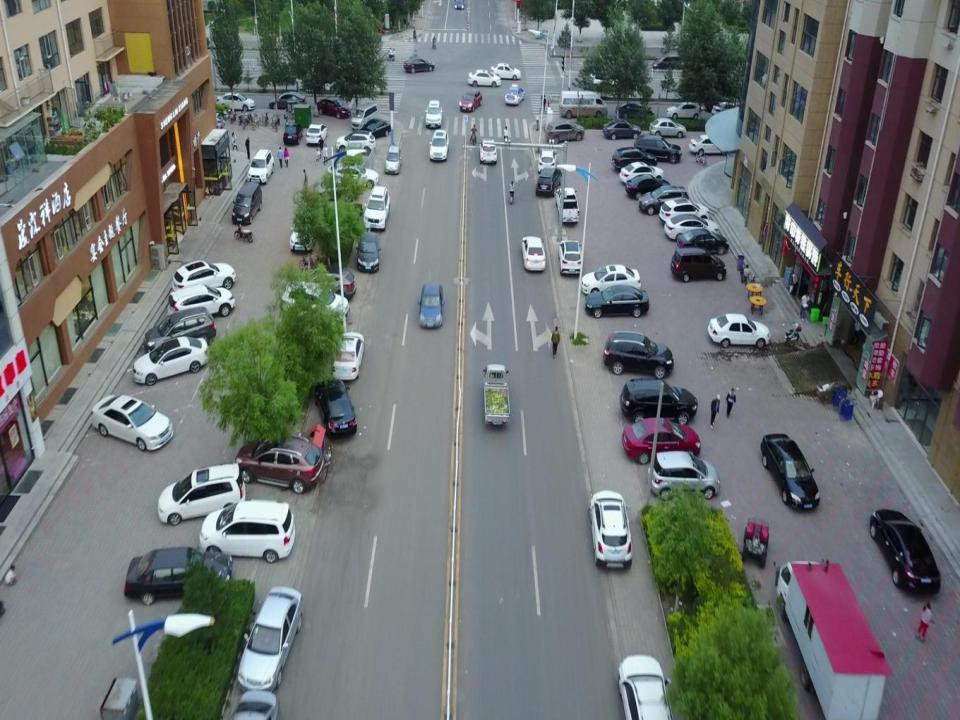car: (236, 584, 304, 696), (124, 545, 234, 606), (869, 507, 942, 598), (198, 498, 294, 564), (156, 462, 246, 527), (234, 435, 325, 494), (91, 393, 174, 452), (760, 432, 821, 511), (132, 335, 212, 386), (620, 416, 701, 466), (617, 651, 675, 720), (649, 449, 721, 502), (142, 307, 216, 358), (602, 330, 676, 380), (589, 488, 634, 570), (619, 376, 699, 422), (280, 280, 350, 332), (166, 283, 236, 325), (314, 376, 358, 439), (171, 260, 237, 299), (706, 312, 771, 349), (585, 283, 650, 319), (670, 246, 727, 282), (301, 264, 357, 300), (581, 264, 641, 296), (327, 331, 365, 381), (664, 213, 720, 242), (638, 185, 690, 216), (633, 133, 683, 164), (676, 227, 729, 255), (326, 162, 379, 190), (659, 198, 710, 226), (418, 280, 445, 330), (625, 173, 671, 201), (363, 186, 391, 232), (289, 208, 317, 254), (307, 177, 358, 202), (611, 146, 658, 171), (355, 231, 382, 274), (619, 161, 665, 185), (336, 130, 376, 156), (688, 133, 733, 156), (544, 119, 585, 144), (246, 149, 274, 185), (554, 186, 580, 223), (354, 117, 392, 142), (558, 240, 584, 276), (521, 234, 546, 271), (602, 118, 642, 140), (664, 99, 704, 120), (615, 100, 655, 121), (535, 166, 562, 197), (649, 117, 687, 139), (651, 52, 689, 74), (317, 96, 351, 120), (216, 91, 256, 111), (466, 68, 502, 88), (269, 91, 306, 110), (429, 129, 450, 161), (459, 87, 483, 113), (710, 99, 742, 118), (490, 61, 522, 80), (403, 56, 436, 74), (478, 138, 498, 166), (384, 145, 402, 175), (306, 122, 328, 146), (537, 149, 558, 174), (425, 99, 443, 128), (504, 83, 526, 106), (283, 122, 304, 146), (203, 112, 225, 132), (453, 0, 465, 9)
truck: (482, 364, 510, 428)
van: (558, 89, 608, 118), (231, 181, 263, 224), (351, 102, 379, 131)
